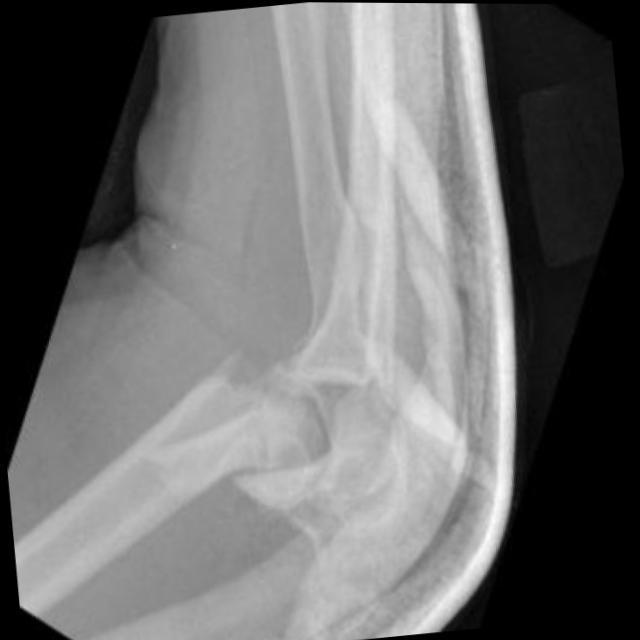fracture: (215, 327, 330, 494)
